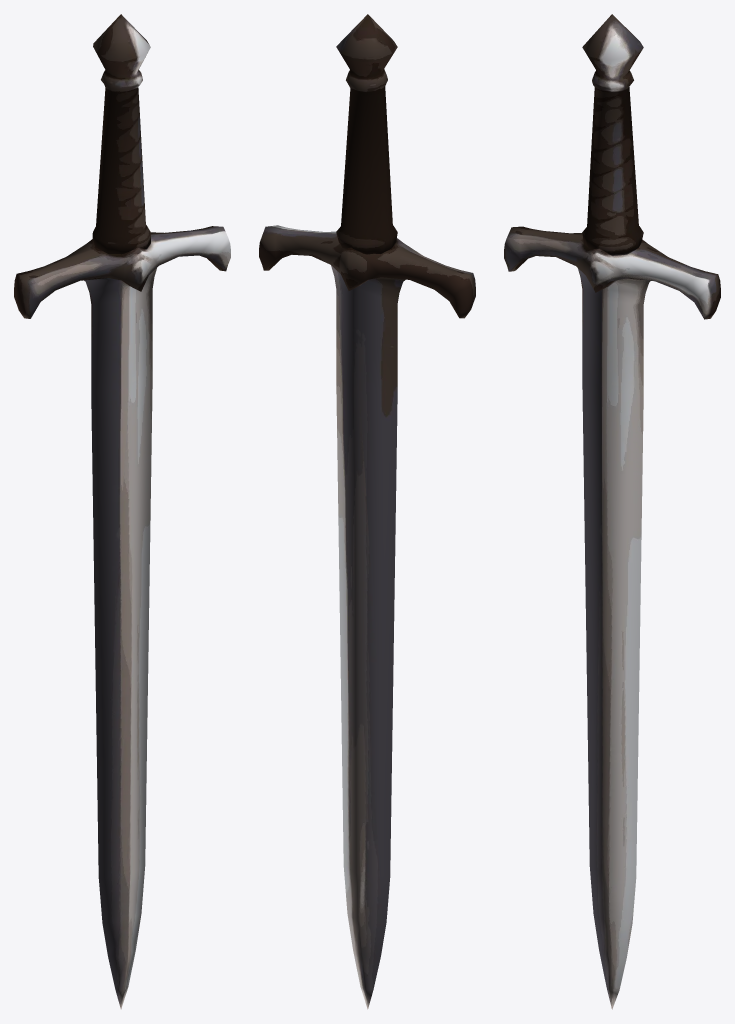
Rendered from sword.glb.
3 views of the same model, side by side, from view 1: azimuth 30°, elevation 25°; view 2: azimuth 150°, elevation 25°; view 3: azimuth 330°, elevation 25° (orthographic).
Bounding box in the file's own units: 0.2168 × 0.998 × 0.0645.
Materials: 1 (1 with a texture image).
